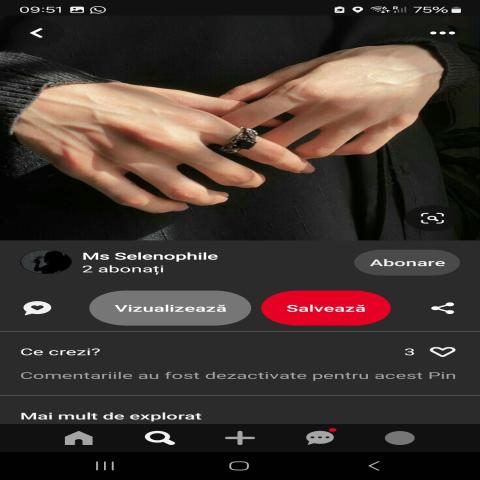hands: (26, 63, 320, 242), (209, 31, 480, 170)
